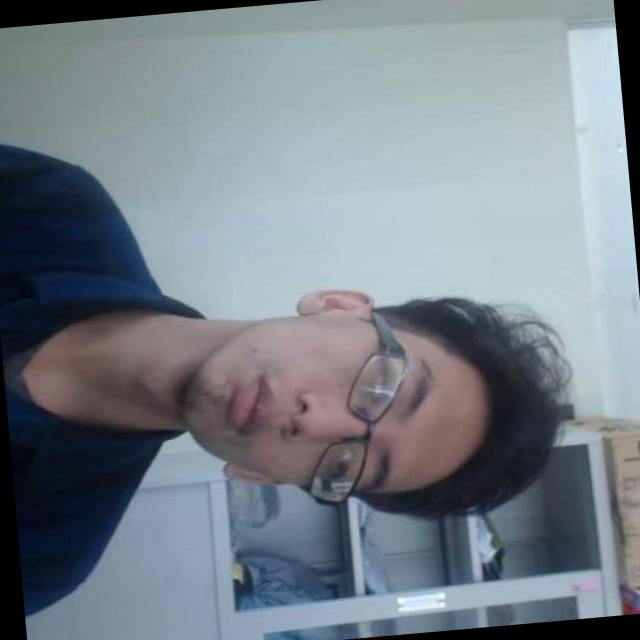bareface: (145, 266, 550, 552)
